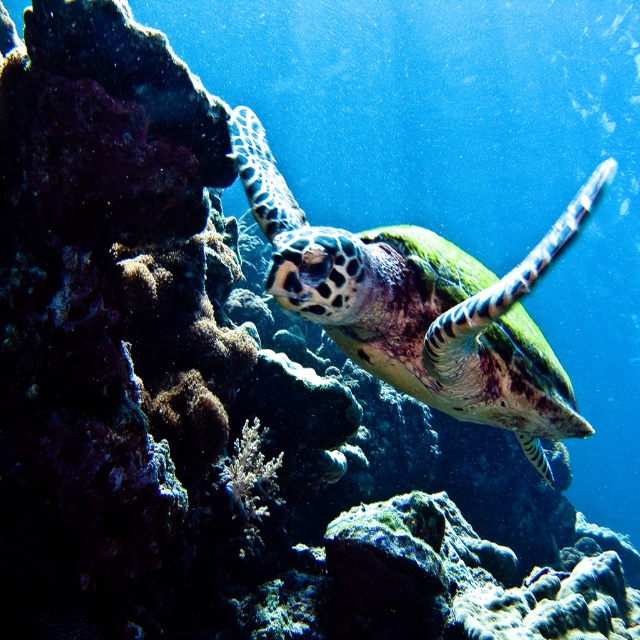Sea turtle: (227, 103, 617, 493)
